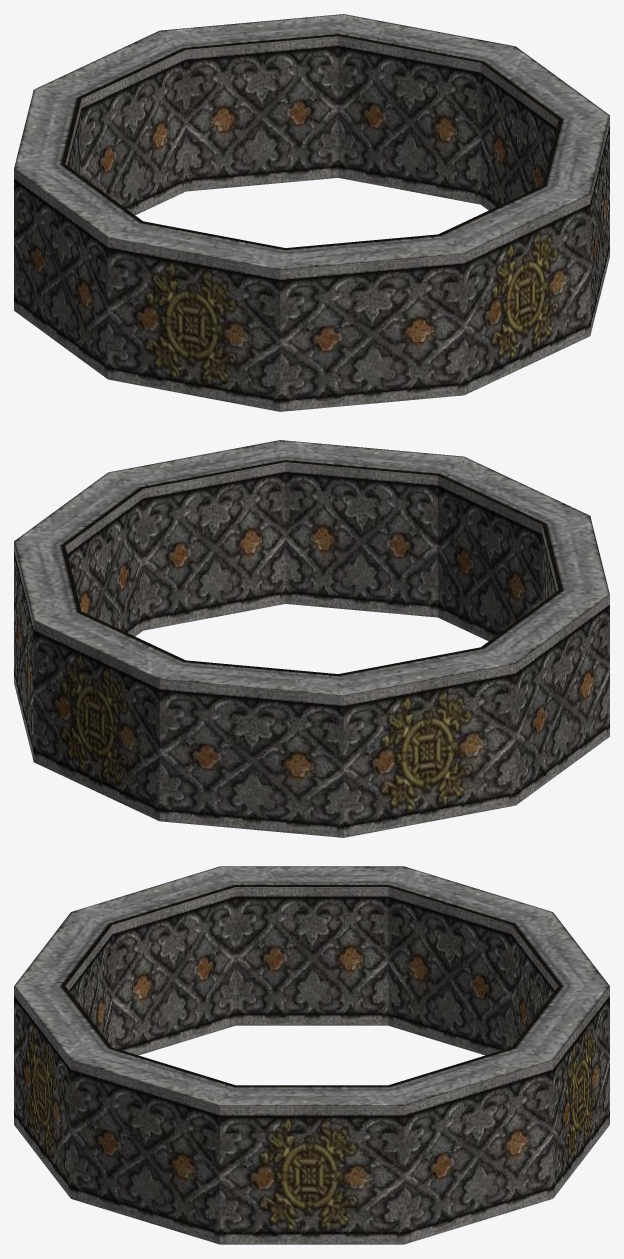
Rendered from ITRI_STR_02.glb.
3 views of the same model, one above another, from view 1: azimuth 30°, elevation 25°; view 2: azimuth 150°, elevation 25°; view 3: azimuth 270°, elevation 25° (orthographic). The views are drawn at different scales.
Visible parts, largest first — view 1: ITRI_STR_02; view 2: ITRI_STR_02; view 3: ITRI_STR_02.
Part boxes in pixels (x1,y1,x2,y2): ITRI_STR_02: (14,14,609,411); ITRI_STR_02: (14,440,609,837); ITRI_STR_02: (14,866,609,1244).
Size of the model in its own units: 0.0624 by 0.0169 by 0.0657.
1 material, 1 textured.
